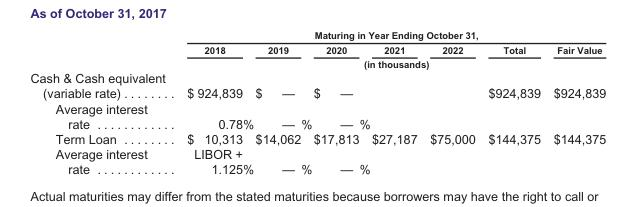table: (29, 29, 605, 175)
table column: (29, 29, 175, 175), (175, 29, 253, 175), (481, 29, 546, 175), (253, 29, 312, 175), (422, 29, 481, 175), (546, 29, 605, 175), (312, 29, 370, 175), (370, 29, 422, 175)
table column header: (29, 29, 605, 69)
table row: (29, 69, 605, 100), (29, 100, 605, 130), (29, 145, 605, 175), (29, 41, 605, 56), (29, 130, 605, 145), (29, 56, 605, 69), (29, 29, 605, 41)
table spanning cell: (175, 56, 605, 69), (175, 29, 605, 41)
